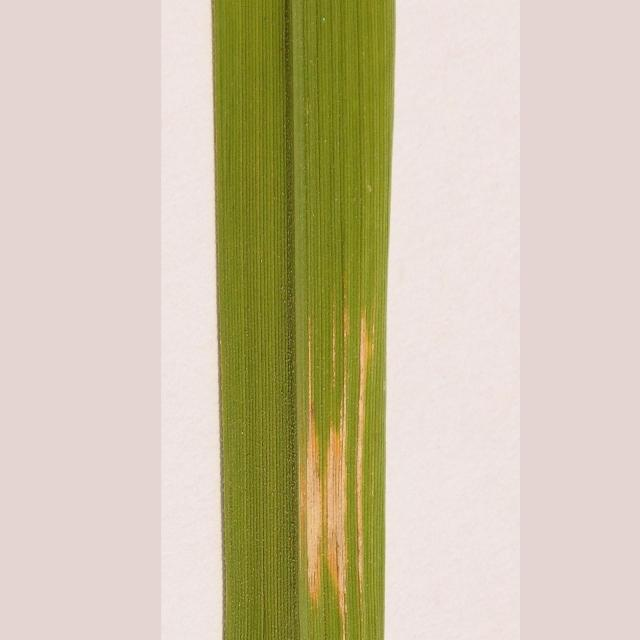leaf blight: (289, 305, 377, 626)
